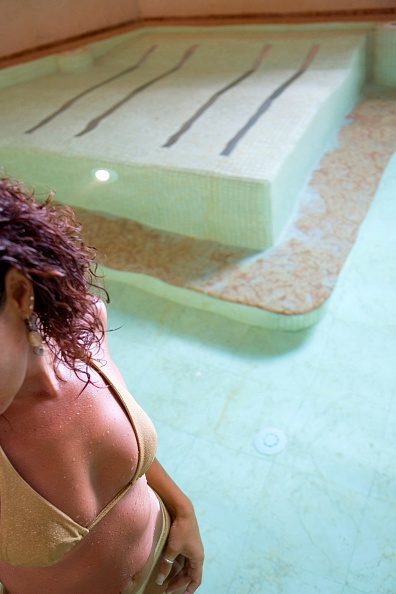em pe: (0, 190, 228, 594)
